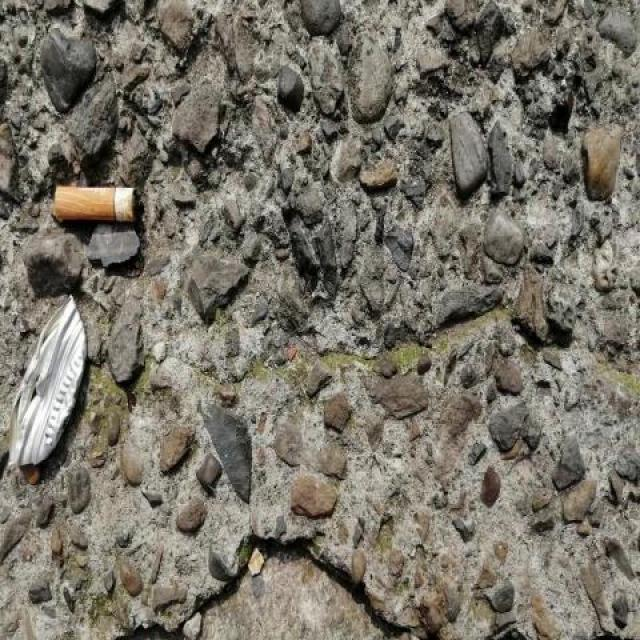non-organic waste: (47, 178, 146, 235)
